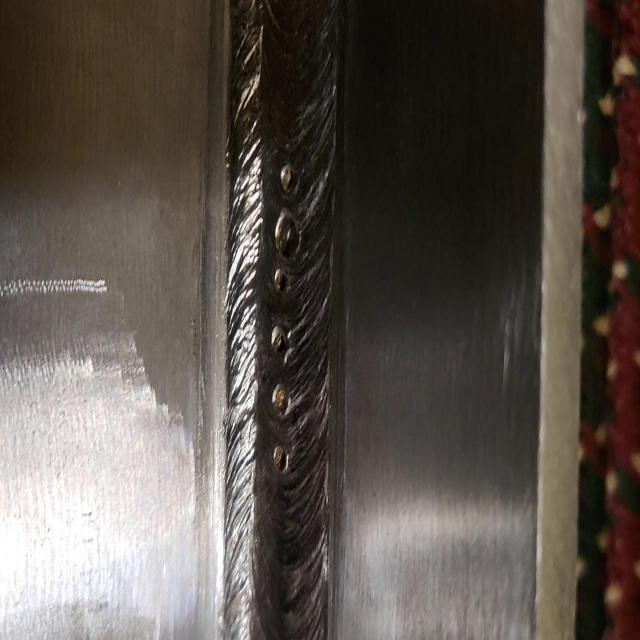Welding Line: (223, 0, 334, 640)
Workpiece: (1, 6, 580, 640)
porosity: (268, 166, 302, 474)
